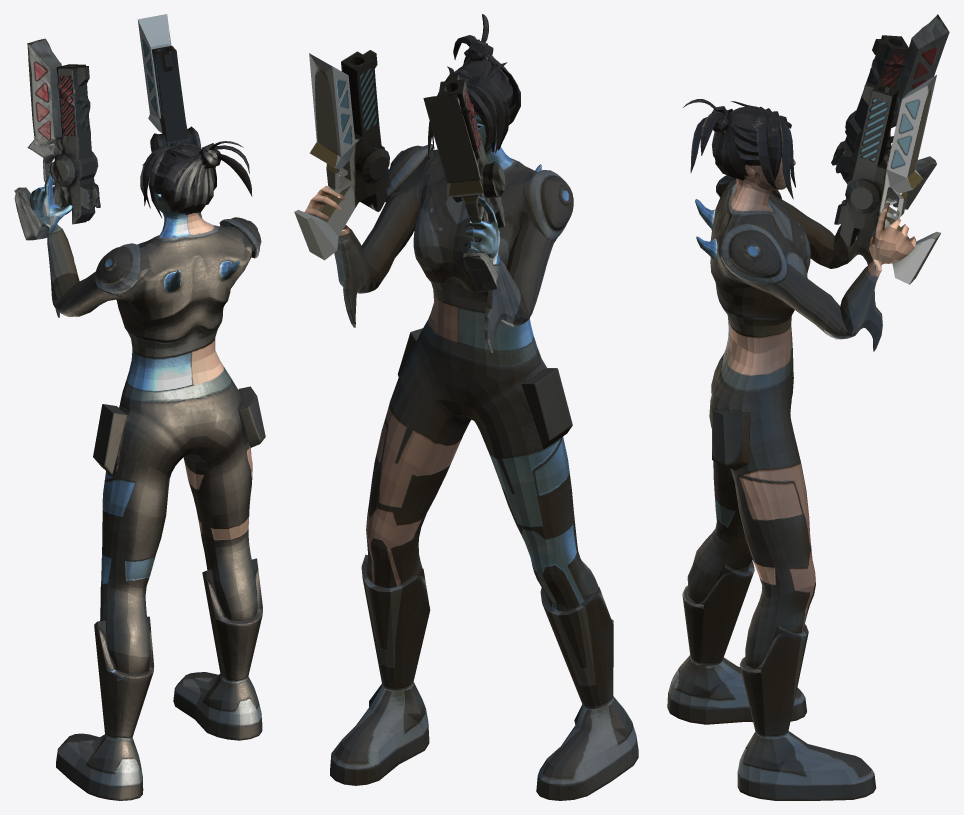
The picture shows the model from 3 angles, left to right: view 1: azimuth 30°, elevation 25°; view 2: azimuth 150°, elevation 25°; view 3: azimuth 270°, elevation 25°; orthographic projection. The views are drawn at different scales.
Parts seen in each view (by area): view 1: Dex_LOW_Plane.001; view 2: Dex_LOW_Plane.001; view 3: Dex_LOW_Plane.001.
Boxes of the visible parts, x1,y1,x2,y2 form: Dex_LOW_Plane.001: (14, 14, 265, 800); Dex_LOW_Plane.001: (294, 14, 638, 800); Dex_LOW_Plane.001: (667, 14, 949, 800).
Bounding box in the file's own units: 1.63 × 5.08 × 1.83.
